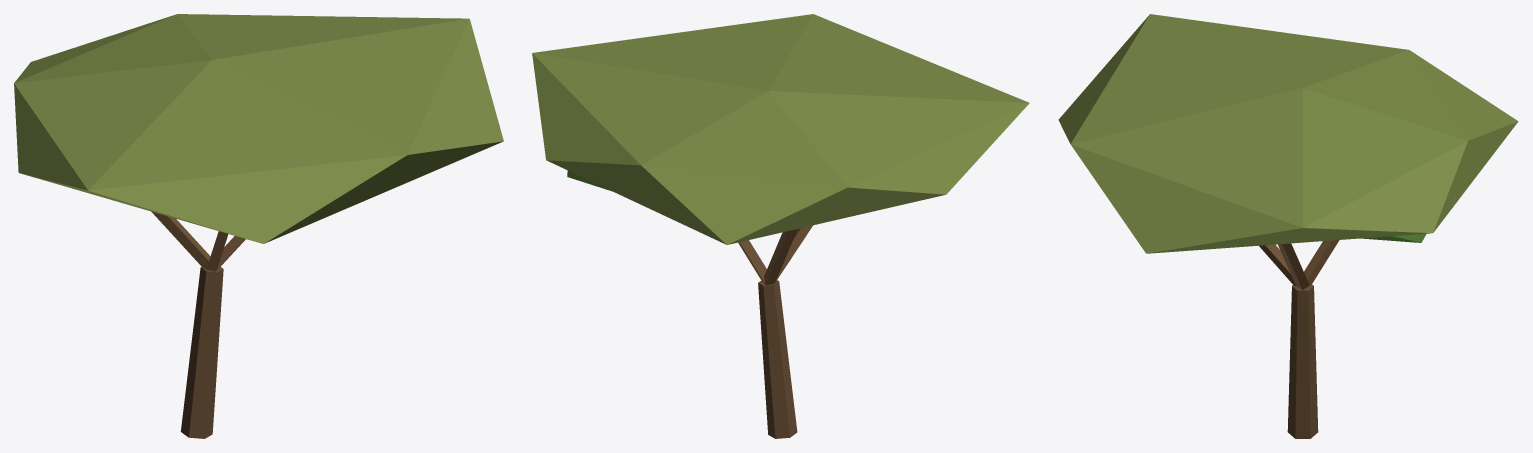
File: akacia_1.glb
The picture shows the model from 3 angles, left to right: view 1: azimuth 30°, elevation 25°; view 2: azimuth 150°, elevation 25°; view 3: azimuth 270°, elevation 25°; orthographic projection. The views are drawn at different scales.
Parts seen in each view (by area): view 1: akacia_1; view 2: akacia_1; view 3: akacia_1.
Boxes of the visible parts, left/top/right/bottom form: akacia_1: left=14, top=14, right=503, bottom=438; akacia_1: left=532, top=14, right=1029, bottom=438; akacia_1: left=1058, top=14, right=1518, bottom=438.
Bounding box in the file's own units: 5.99 × 4.6 × 5.43.
